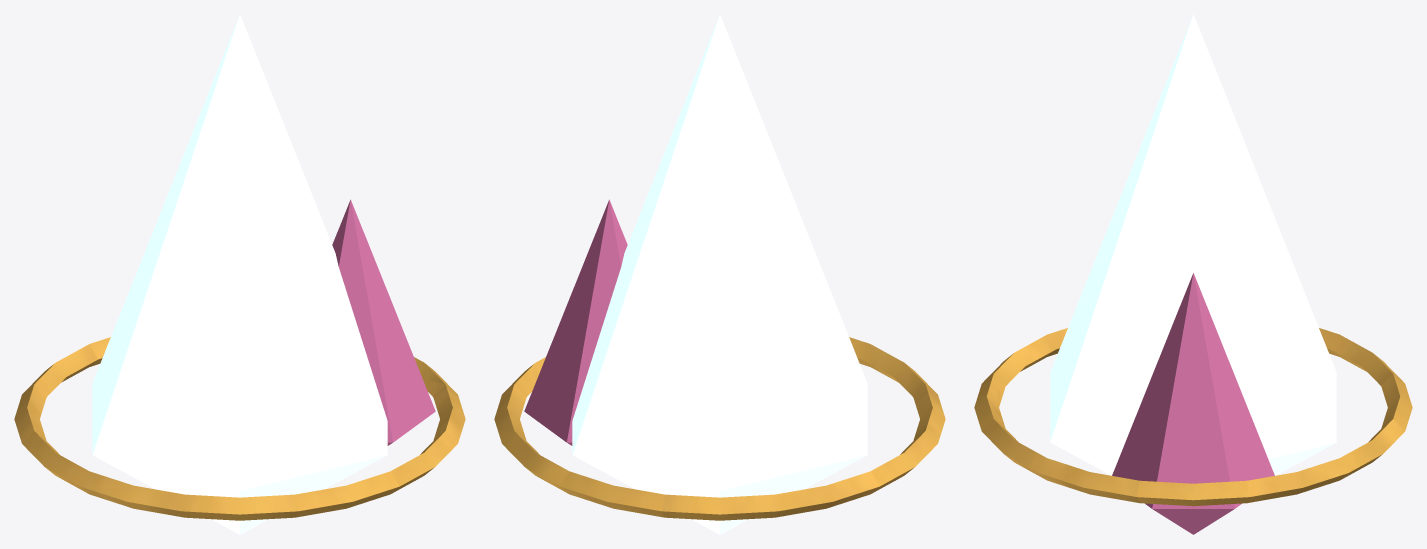
Rendered from citadel_hunt_shard.glb.
3 views of the same model, side by side, from view 1: azimuth 30°, elevation 25°; view 2: azimuth 150°, elevation 25°; view 3: azimuth 270°, elevation 25° (orthographic). The views are drawn at different scales.
Parts seen in each view (by area): view 1: hunt_shard_crystal, hunt_shard_gold, hunt_shard_satin_rose; view 2: hunt_shard_crystal, hunt_shard_gold, hunt_shard_satin_rose; view 3: hunt_shard_crystal, hunt_shard_satin_rose, hunt_shard_gold.
Boxes of the visible parts, left/top/right/bottom form: hunt_shard_crystal: left=92, top=14, right=387, bottom=534; hunt_shard_gold: left=14, top=337, right=465, bottom=520; hunt_shard_satin_rose: left=332, top=199, right=435, bottom=445; hunt_shard_crystal: left=572, top=14, right=867, bottom=534; hunt_shard_gold: left=494, top=337, right=945, bottom=520; hunt_shard_satin_rose: left=524, top=199, right=627, bottom=445; hunt_shard_crystal: left=1050, top=14, right=1336, bottom=475; hunt_shard_satin_rose: left=1112, top=273, right=1274, bottom=534; hunt_shard_gold: left=974, top=328, right=1412, bottom=506.
Size of the model in its own units: 0.424 by 0.54 by 0.424.
Materials: 3 (1 with a texture image).
